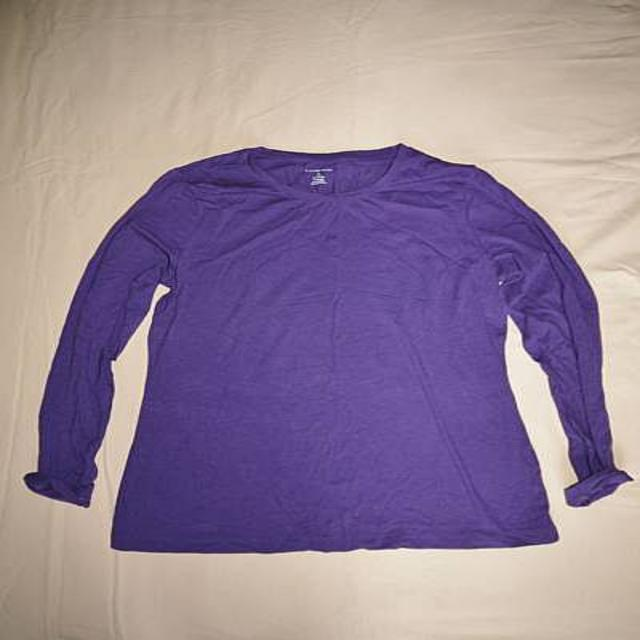SHIRT: (19, 130, 638, 569)
